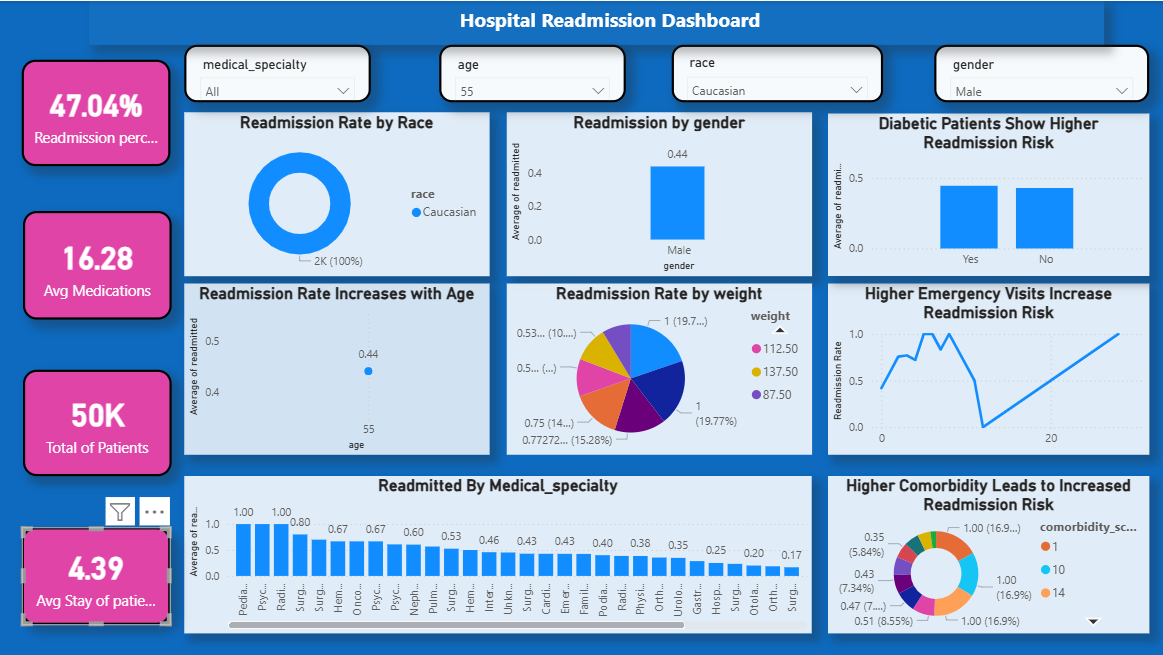

Layout of this report page (visuals, bound fields, positions):
{"tool":"powerbi","page":{"name":"overview","canvas":[1280,720],"ordinal":0},"visuals":[{"type":"card","fields":{"Values":["hospital_cleaned.Readmission percentage"]},"box":[26.1,64.5,163.3,116.6],"z":0},{"type":"card","fields":{"Values":["hospital_cleaned.Avg Medications"]},"box":[27.4,230.5,163.3,119.4],"z":1000},{"type":"card","fields":{"Values":["hospital_cleaned.Avg Stay"]},"box":[26.1,577.7,163.3,107],"z":2000},{"type":"card","fields":{"Values":["hospital_cleaned.Total of Patients"]},"box":[27.4,404.8,163.3,116.6],"z":3000},{"type":"clusteredColumnChart","title":"Readmission by gender","fields":{"Y":["Avg(hospital_cleaned.readmitted)"],"Category":["hospital_cleaned.gender"]},"box":[558.5,122.1,334.8,179.8],"z":4000},{"type":"donutChart","title":"Readmission Rate by Race","fields":{"Category":["hospital_cleaned.race"],"Y":["Sum(hospital_cleaned.readmitted)"]},"box":[204.5,122.1,334.8,179.8],"z":5000},{"type":"lineChart","title":"Readmission Rate Increases with Age","fields":{"Y":["Avg(hospital_cleaned.readmitted)"],"Category":["hospital_cleaned.age"]},"box":[204.5,310.1,334.8,188],"z":6000},{"type":"clusteredColumnChart","title":"Readmitted By Medical_specialty","fields":{"Category":["hospital_cleaned.medical_specialty"],"Y":["Avg(hospital_cleaned.readmitted)"]},"box":[204.5,521.4,688.9,172.9],"z":8000},{"type":"donutChart","title":"Higher Comorbidity Leads to Increased Readmission Risk","fields":{"Category":["hospital_cleaned.comorbidity_score"],"Y":["Avg(hospital_cleaned.readmitted)"]},"box":[911.2,521.4,352.7,172.9],"z":9000},{"type":"lineChart","title":"Higher Emergency Visits Increase Readmission Risk","fields":{"Category":["hospital_cleaned.number_emergency (bins)"],"Y":["hospital_cleaned.Readmission Rate"]},"box":[911.2,310.1,352.7,188],"z":11000},{"type":"pieChart","fields":{"Category":["hospital_cleaned.weight"],"Y":["hospital_cleaned.Readmission Rate"]},"box":[558.5,310.1,334.8,188],"z":13000},{"type":"clusteredColumnChart","title":"Diabetic Patients Show Higher Readmission Risk","fields":{"Y":["Avg(hospital_cleaned.readmitted)"],"Category":["hospital_cleaned.diabetesMed"]},"box":[911.2,123.5,352.7,178.4],"z":14000},{"type":"slicer","fields":{"Values":["hospital_cleaned.medical_specialty"]},"box":[204.5,48,204.5,63.1],"z":14001},{"type":"slicer","fields":{"Values":["hospital_cleaned.age"]},"box":[484.4,48,204.5,63.1],"z":14002},{"type":"slicer","fields":{"Values":["hospital_cleaned.gender"]},"box":[1027.8,48,236,63.1],"z":14004},{"type":"slicer","fields":{"Values":["hospital_cleaned.race"]},"box":[739.6,48,231.9,63.1],"z":14005},{"type":"textbox","box":[100.2,0,1114.2,48],"z":14006}]}

Visuals, with their boxes in screenshot pixels (x1, y1, x2, y2), scaled from the page's 1280x720 canvas onto the 1163x655 screenshot:
card - hospital_cleaned.Readmission percentage: box(24, 59, 172, 165)
card - hospital_cleaned.Avg Medications: box(25, 210, 173, 318)
card - hospital_cleaned.Avg Stay: box(24, 526, 172, 623)
card - hospital_cleaned.Total of Patients: box(25, 368, 173, 474)
"Readmission by gender" clusteredColumnChart: box(507, 111, 812, 275)
"Readmission Rate by Race" donutChart: box(186, 111, 490, 275)
"Readmission Rate Increases with Age" lineChart: box(186, 282, 490, 453)
"Readmitted By Medical_specialty" clusteredColumnChart: box(186, 474, 812, 632)
"Higher Comorbidity Leads to Increased Readmission Risk" donutChart: box(828, 474, 1148, 632)
"Higher Emergency Visits Increase Readmission Risk" lineChart: box(828, 282, 1148, 453)
pieChart - hospital_cleaned.weight x hospital_cleaned.Readmission Rate: box(507, 282, 812, 453)
"Diabetic Patients Show Higher Readmission Risk" clusteredColumnChart: box(828, 112, 1148, 275)
slicer - hospital_cleaned.medical_specialty: box(186, 44, 372, 101)
slicer - hospital_cleaned.age: box(440, 44, 626, 101)
slicer - hospital_cleaned.gender: box(934, 44, 1148, 101)
slicer - hospital_cleaned.race: box(672, 44, 883, 101)
textbox: box(91, 0, 1103, 44)
